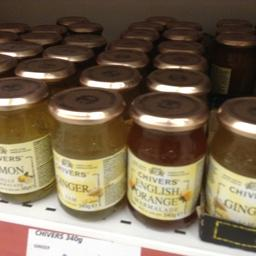jam: (127, 90, 207, 228), (47, 84, 126, 220), (0, 76, 51, 202), (207, 94, 255, 220), (210, 33, 255, 96)
